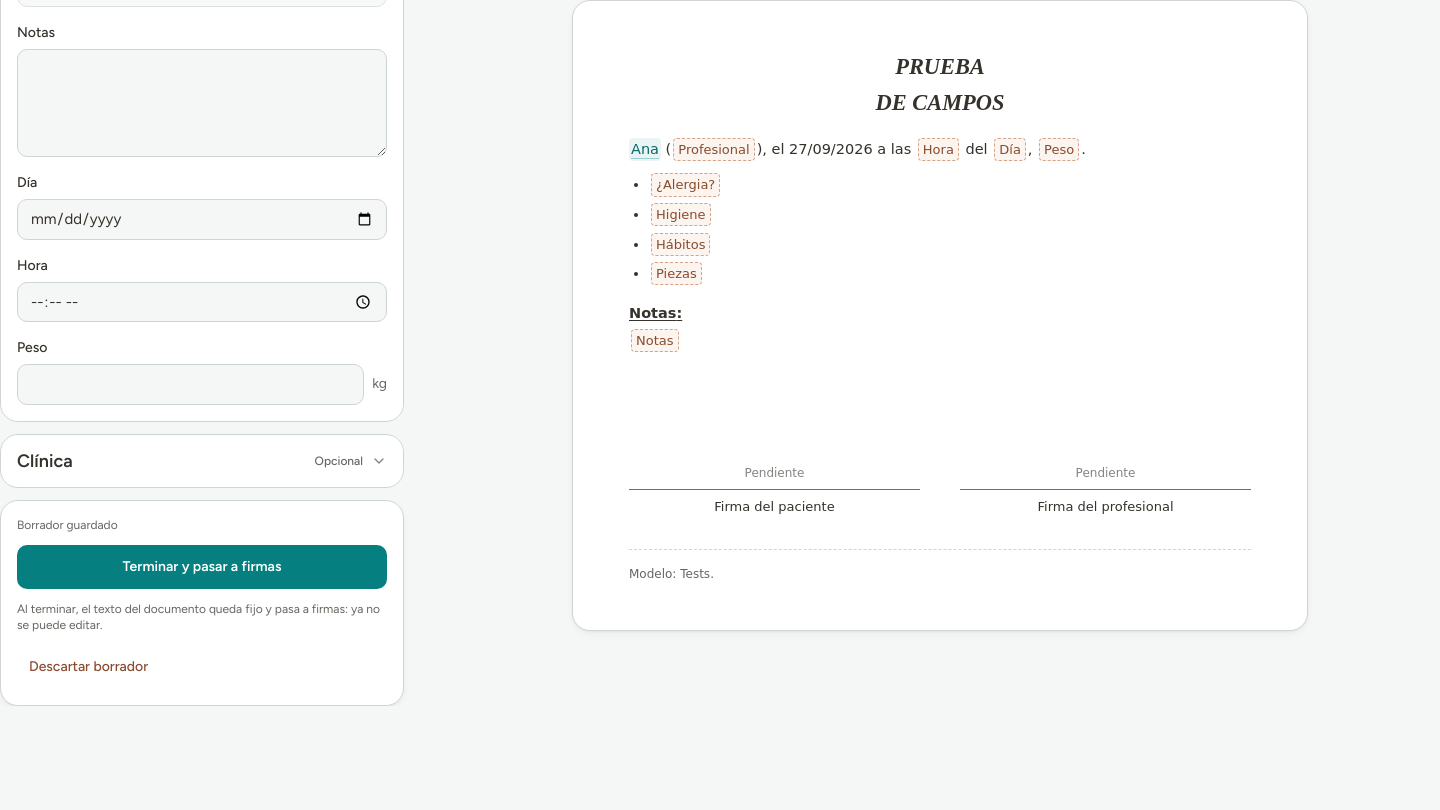
Test: EditorDeDocumento › terminar pide confirmar, porque después ya no se edita; «Seguir revisando» no termina
(page scrolled)
Click the button "Terminar y pasar a firmas": {"x": 202, "y": 566} [17,544,387,588]
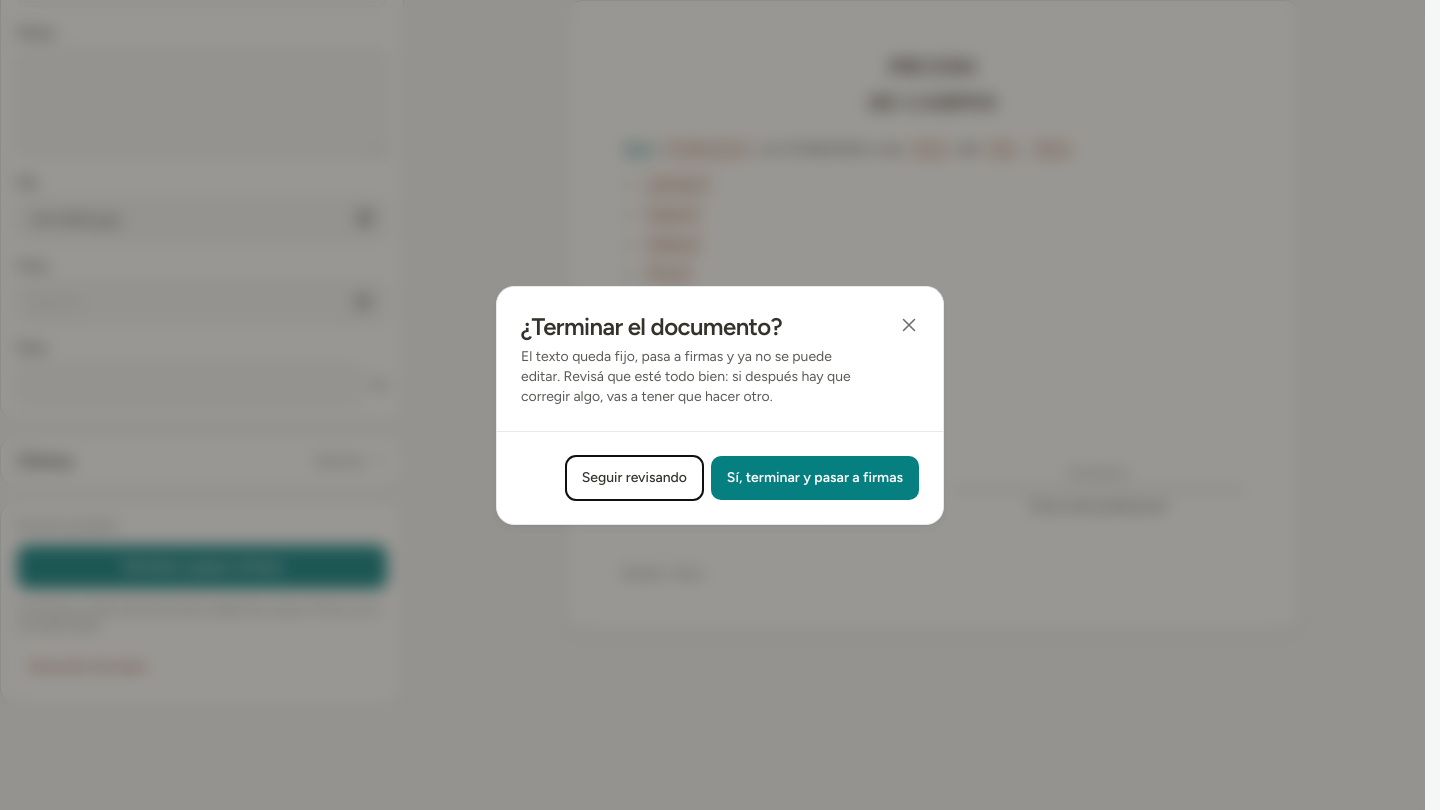
Result: the dialog "¿Terminar el documento?" shows "ya no se puede editar" at [521,348,851,404]
Click the button "Seguir revisando": {"x": 634, "y": 478} [566,456,703,500]
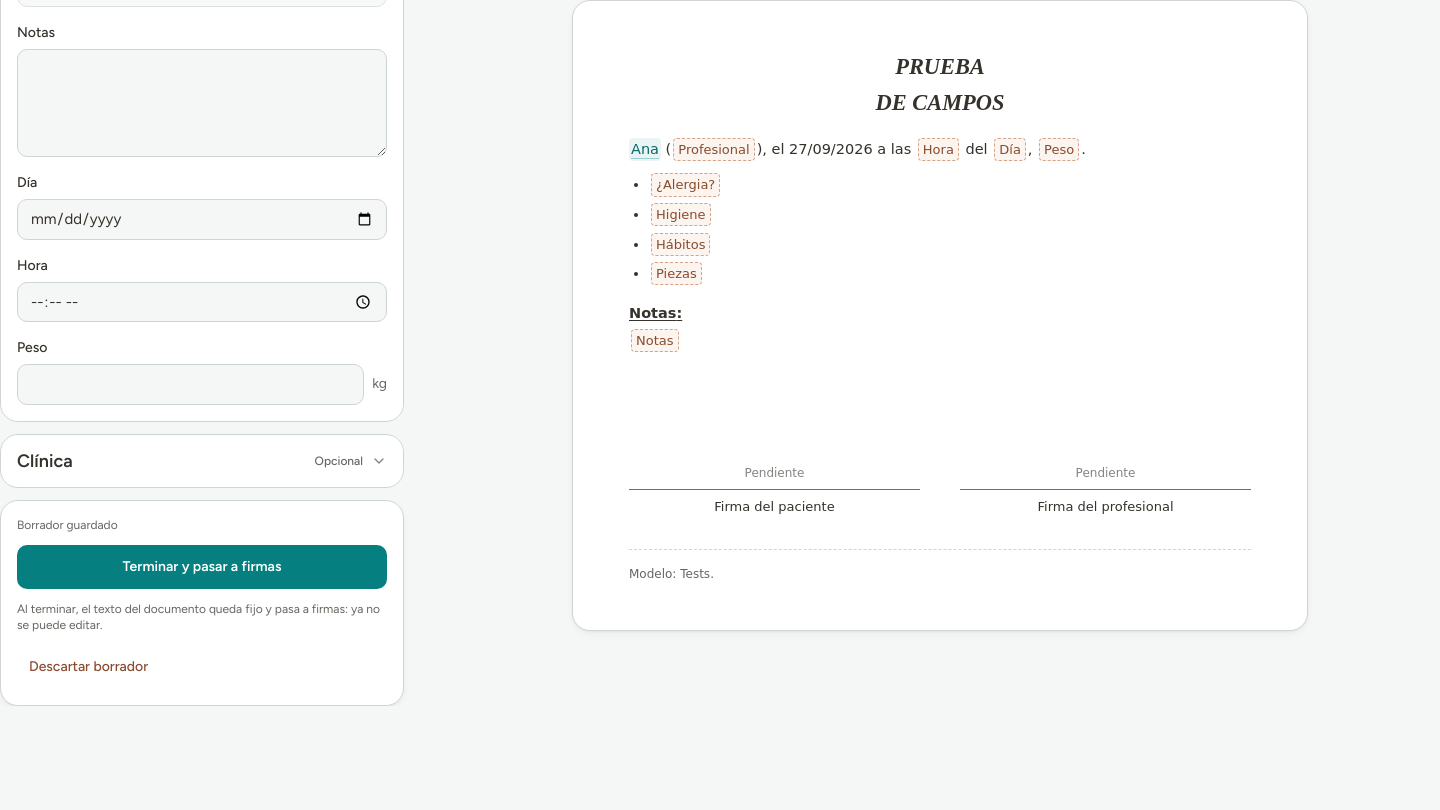
Result: the dialog is gone
